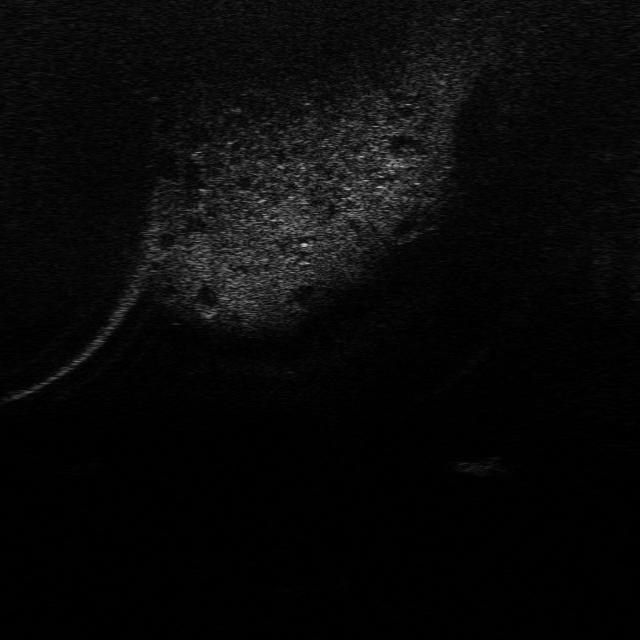cube: (453, 452, 509, 480)
